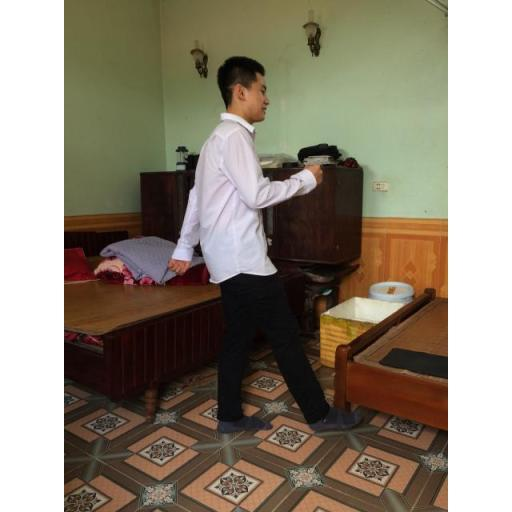Running: (166, 47, 364, 435)
